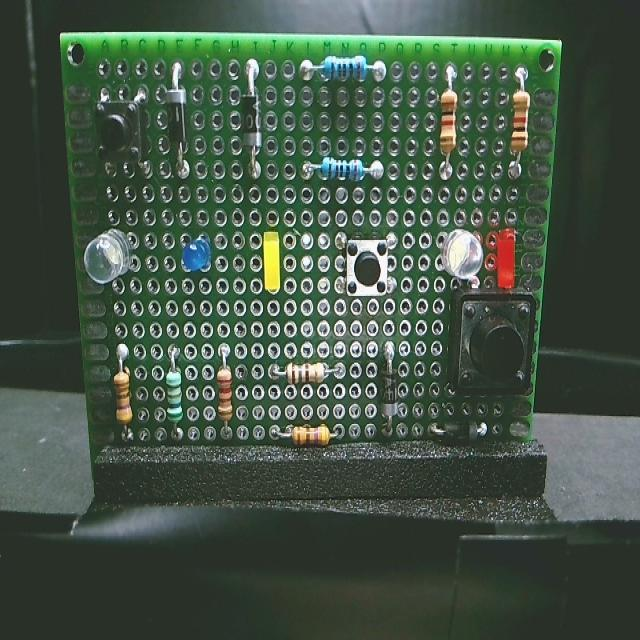diode: (426, 416, 496, 460), (235, 88, 269, 172), (374, 339, 397, 424), (166, 85, 189, 165)
led: (80, 219, 150, 297), (436, 221, 484, 293), (491, 223, 524, 294), (259, 227, 288, 295), (183, 228, 215, 288)
resistor: (496, 80, 538, 181), (299, 48, 379, 99), (431, 72, 469, 172), (104, 354, 143, 429), (267, 350, 331, 390), (316, 148, 381, 184), (283, 414, 334, 452), (212, 364, 239, 428), (168, 368, 183, 430)
switch: (454, 291, 534, 399), (336, 228, 395, 304), (93, 97, 145, 165)
